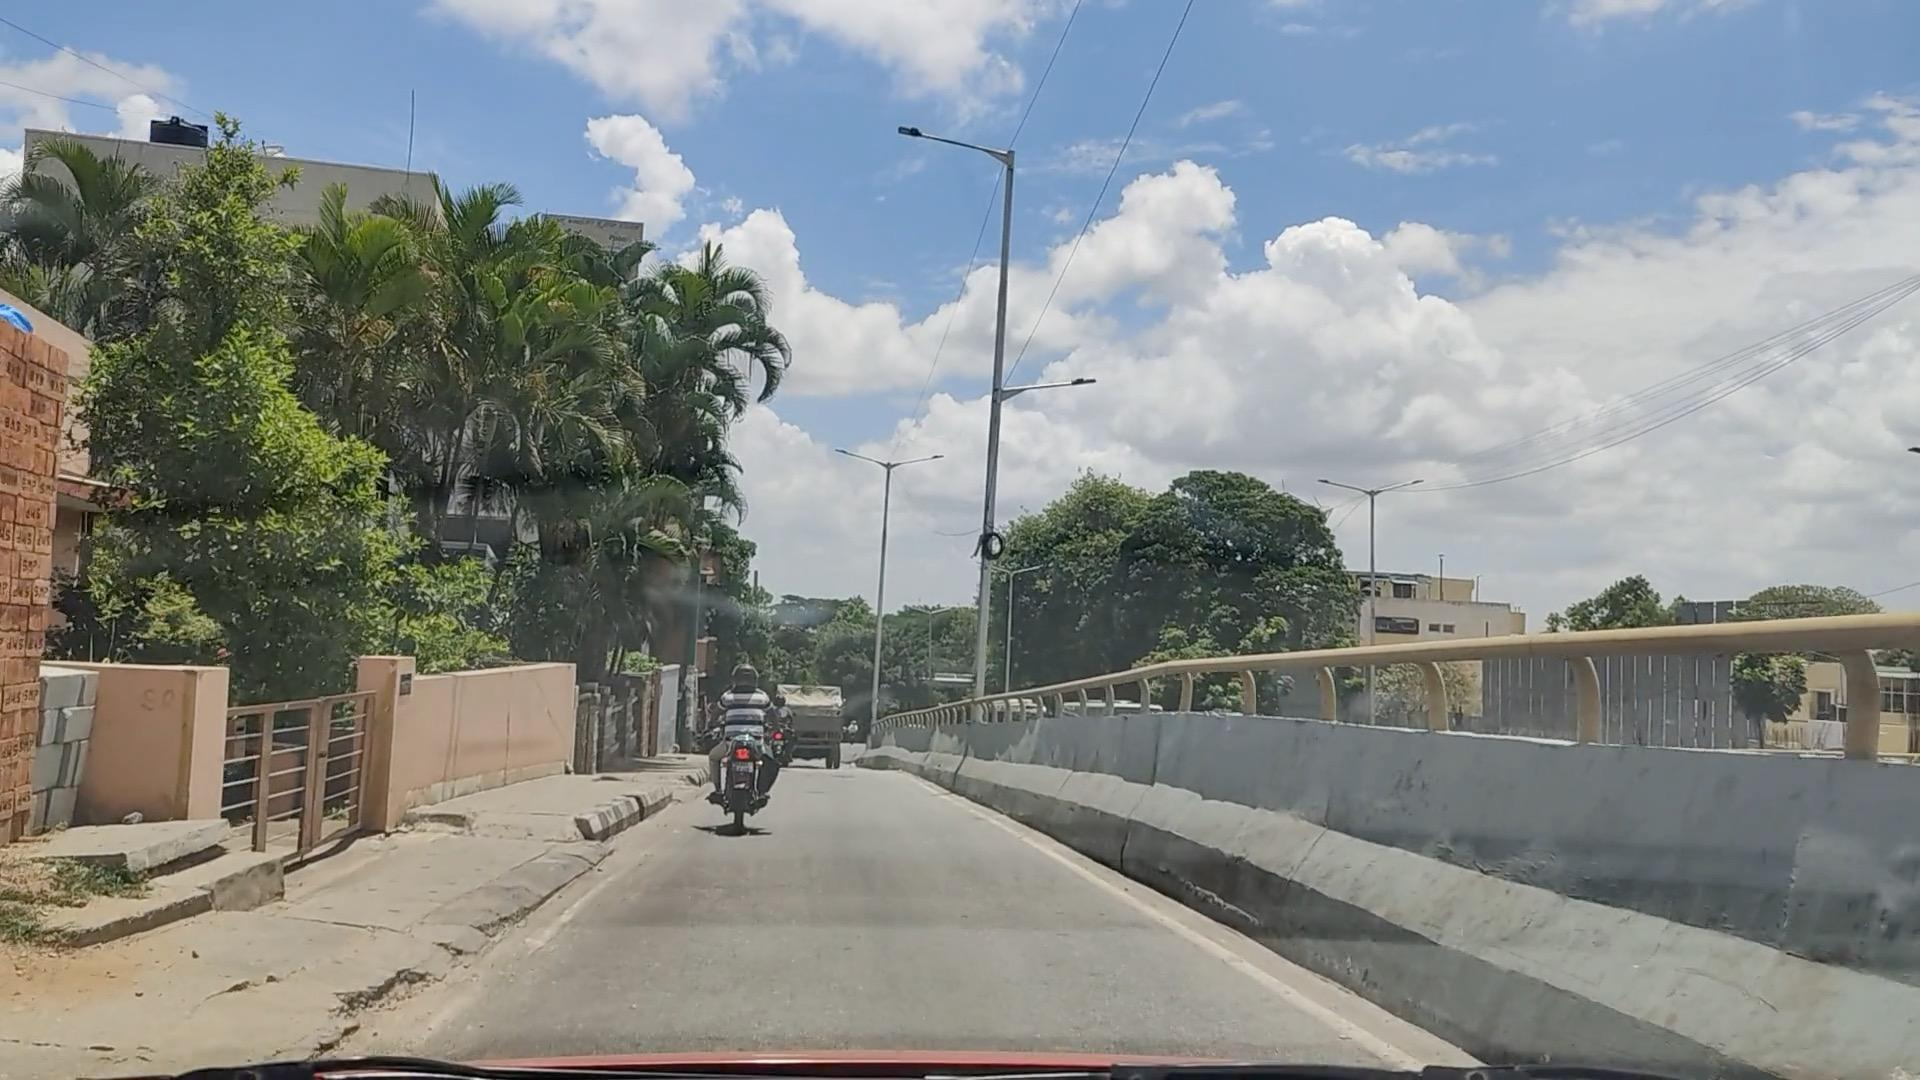LMV: (710, 663, 773, 829)
